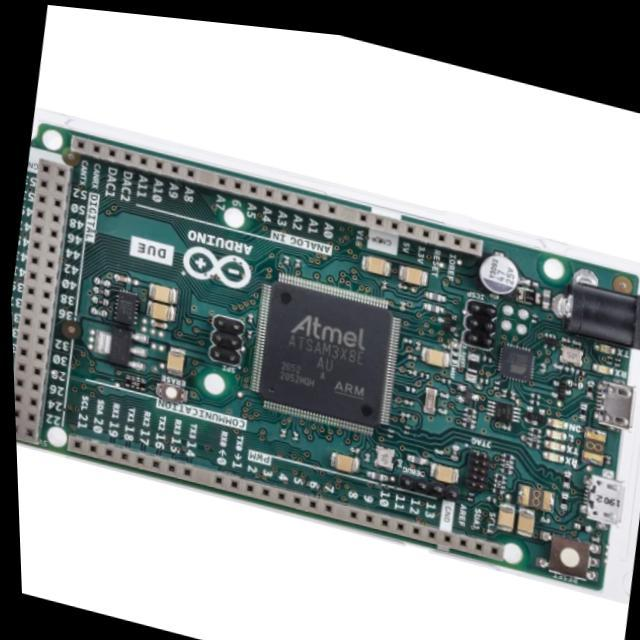Arduino-Due: (12, 115, 640, 591)
